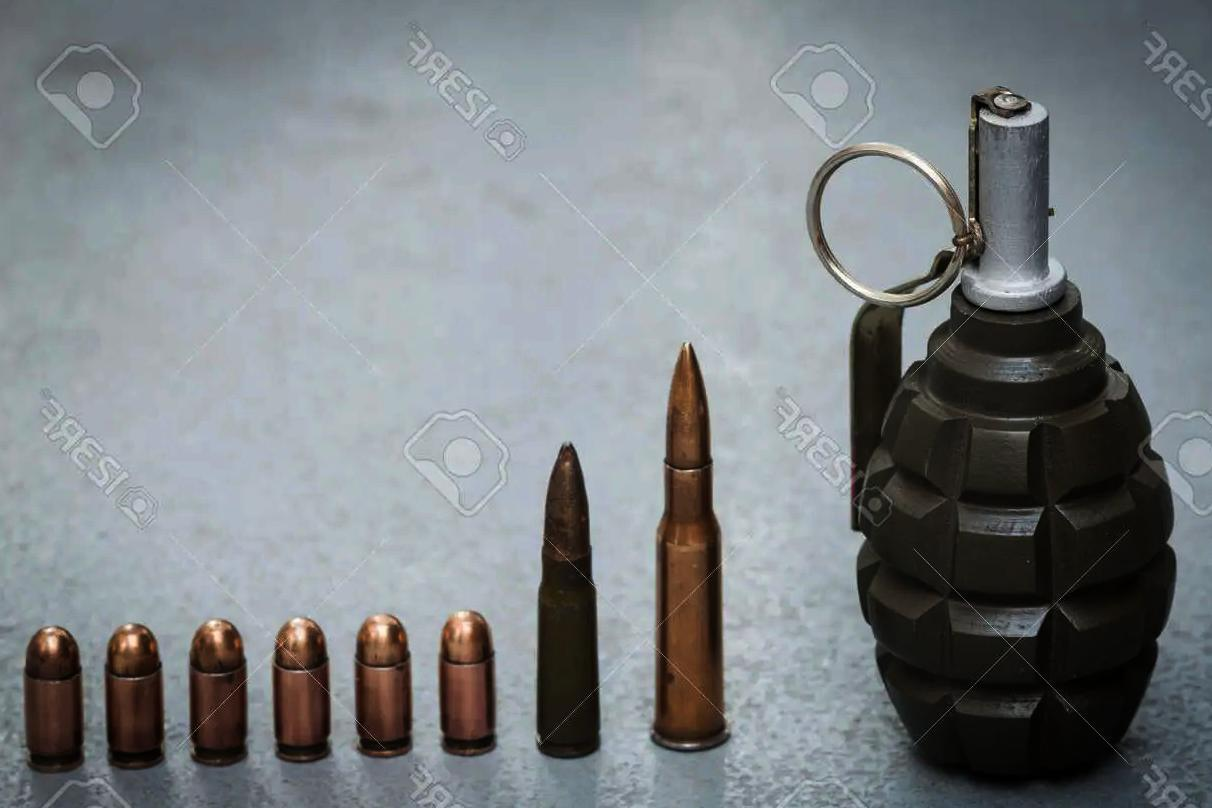Grenade: (809, 89, 1175, 780)
